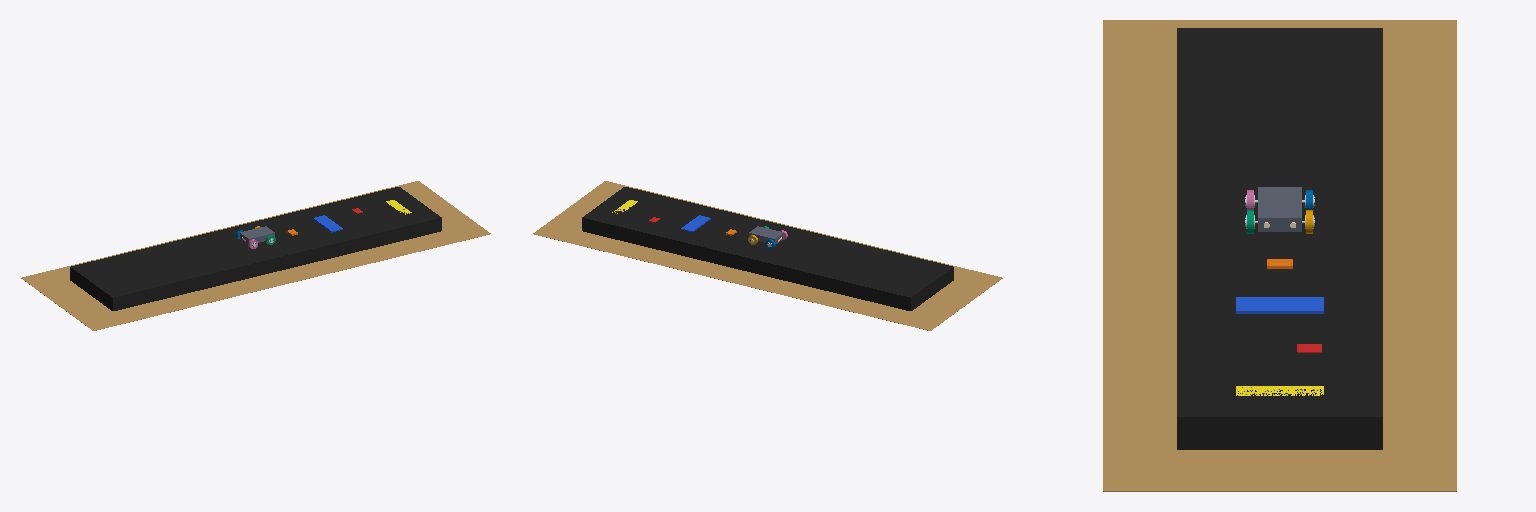
URDF robot description (vehicle_4wd):
<?xml version="1.0"?>
<robot name="vehicle_4wd">

  <!-- Materials -->
  <material name="body_dark">
    <color rgba="0.20 0.23 0.28 1.0" />
  </material>

  <material name="body_light">
    <color rgba="0.40 0.43 0.48 0.9" />
  </material>

  <material name="tire">
    <color rgba="0.06 0.06 0.06 1.0" />
  </material>

  <material name="tire_tread_texture">
    <texture filename="textures/tire_tread.png" />
  </material>

  <material name="tread_mark">
    <color rgba="0.32 0.33 0.36 1.0" />
  </material>

  <material name="ground_surface">
    <color rgba="0.18 0.18 0.18 0.7" />
  </material>

  <material name="obstacle_rock">
    <color rgba="0.86 0.20 0.20 0.7" />
  </material>

  <material name="obstacle_rock_blue">
    <color rgba="0.20 0.42 0.90 0.7" />
  </material>

  <material name="obstacle_rock_orange">
    <color rgba="0.95 0.52 0.12 0.8" />
  </material>

  <material name="green">
    <color rgba="0.00 1.00 0.00 1.0" />
  </material>

  <material name="ellipsoid_surface">
    <color rgba="0.76 0.62 0.40 0.55" />
  </material>

  <material name="rim">
    <color rgba="0.80 0.82 0.85 1.0" />
  </material>

  <material name="head_light">
    <color rgba="1.00 0.98 0.85 1.0" />
  </material>

  <material name="brake_light">
    <color rgba="0.95 0.08 0.08 1.0" />
  </material>

  <material name="plate_white">
    <color rgba="0.95 0.95 0.95 1.0" />
  </material>

  <material name="text_black">
    <color rgba="0.10 0.10 0.10 1.0" />
  </material>

  <material name="hole_yellow">
    <color rgba="1.00 0.92 0.16 0.9" />
  </material>

  <!-- Root link kept for compatibility -->
  <link name="origin">
    <visual>
      <origin xyz="0 0 0" rpy="0 0 0" />
      <geometry>
        <sphere radius="0.04" />
      </geometry>
      <material name="green" />
    </visual>
  </link>

  <!-- Main body (car_frame style) -->
  <link name="car_frame">
    <visual>
      <origin xyz="0.0566667 0 0.12" rpy="0 0 0" />
      <geometry>
        <box size="1.00 0.60 0.22" />
      </geometry>
      <material name="body_light" />
    </visual>

    <!-- Wheel axles -->
    <visual>
      <origin xyz="0.33 0.35 0.06" rpy="1.5707963 0 0" />
      <geometry>
        <cylinder radius="0.020" length="0.10" />
      </geometry>
      <material name="rim" />
    </visual>

    <visual>
      <origin xyz="0.33 -0.35 0.06" rpy="1.5707963 0 0" />
      <geometry>
        <cylinder radius="0.020" length="0.10" />
      </geometry>
      <material name="rim" />
    </visual>

    <visual>
      <origin xyz="-0.33 0.35 0.06" rpy="1.5707963 0 0" />
      <geometry>
        <cylinder radius="0.020" length="0.10" />
      </geometry>
      <material name="rim" />
    </visual>

    <visual>
      <origin xyz="-0.33 -0.35 0.06" rpy="1.5707963 0 0" />
      <geometry>
        <cylinder radius="0.020" length="0.10" />
      </geometry>
      <material name="rim" />
    </visual>

    <!-- Front head lights -->
    <visual>
      <origin xyz="0.564 0.18 0.12" rpy="0 1.5707963 0" />
      <geometry>
        <cylinder radius="0.042" length="0.02" />
      </geometry>
      <material name="head_light" />
    </visual>

    <visual>
      <origin xyz="0.564 -0.18 0.12" rpy="0 1.5707963 0" />
      <geometry>
        <cylinder radius="0.042" length="0.02" />
      </geometry>
      <material name="head_light" />
    </visual>

    <!-- Rear brake lights -->
    <visual>
      <origin xyz="-0.44 0.18 0.10" rpy="0 0 0" />
      <geometry>
        <box size="0.010 0.09 0.035" />
      </geometry>
      <material name="brake_light" />
    </visual>

    <visual>
      <origin xyz="-0.44 -0.18 0.10" rpy="0 0 0" />
      <geometry>
        <box size="0.010 0.09 0.035" />
      </geometry>
      <material name="brake_light" />
    </visual>

    <!-- Rear license plate -->
    <visual>
      <origin xyz="-0.452 0 0.10" rpy="0 0 0" />
      <geometry>
        <box size="0.010 0.24 0.06" />
      </geometry>
      <material name="plate_white" />
    </visual>


    <collision>
      <origin xyz="0.06 0 0.12" rpy="0 0 0" />
      <geometry>
        <box size="1.02 0.62 0.24" />
      </geometry>
    </collision>

    <inertial>
      <origin xyz="0.06 0 0.12" rpy="0 0 0" />
      <mass value="40.0" />
      <inertia ixx="2.6" ixy="0" ixz="0" iyy="4.8" iyz="0" izz="6.0" />
    </inertial>
  </link>

  <joint name="origin_to_ground" type="fixed">
    <parent link="origin" />
    <child link="ground" />
    <origin xyz="0 0 0" rpy="0 0 0" />
  </joint>

  <!-- Ground patch under the vehicle (2x vehicle body length) -->
  <link name="ground">
    <visual>
      <origin xyz="0 0 -0.25" rpy="0 0 0" />
      <geometry>
        <box size="12.48 2.80 0.50" />
      </geometry>
      <material name="ground_surface" />
    </visual>
    <collision>
      <origin xyz="0 0 -0.25" rpy="0 0 0" />
      <geometry>
        <box size="12.48 2.80 0.50" />
      </geometry>
    </collision>
  </link>

  <link name="ellipsoid_surface">
    <visual>
      <origin xyz="0 0 -0.002" rpy="0 0 0" />
      <geometry>
        <box size="15.1008 4.7916 0.005" />
      </geometry>
      <material name="ellipsoid_surface" />
    </visual>
  </link>

  <joint name="ground_to_car_frame" type="fixed">
    <parent link="ground" />
    <child link="car_frame" />
    <origin xyz="0 0 0.10" rpy="0 0 0" />
  </joint>

  <!-- Simulation obstacle (fixed curb / step) -->
  <link name="obstacle_rock_03">
    <visual>
      <origin xyz="0 0 0.0125" rpy="0 0 0" />
      <geometry>
        <box size="0.24 0.34 0.025" />
      </geometry>
      <material name="obstacle_rock" />
    </visual>
    <collision>
      <origin xyz="0 0 0.0125" rpy="0 0 0" />
      <geometry>
        <box size="0.44 0.34 0.025" />
      </geometry>
    </collision>
  </link>

  <joint name="obstacle_rock_03_joint" type="fixed">
    <parent link="ground" />
    <child link="obstacle_rock_03" />
    <origin xyz="4.0767 0.40 0.00" rpy="0 0 0" />
  </joint>

  <link name="obstacle_rock_01">
    <visual>
      <origin xyz="0 0 0.025" rpy="0 0 0" />
      <geometry>
        <box size="0.24 0.34 0.05" />
      </geometry>
      <material name="obstacle_rock_orange" />
    </visual>
    <collision>
      <origin xyz="0 0 0.025" rpy="0 0 0" />
      <geometry>
        <box size="0.44 0.34 0.05" />
      </geometry>
    </collision>
  </link>

  <joint name="obstacle_rock_01_joint" type="fixed">
    <parent link="ground" />
    <child link="obstacle_rock_01" />
    <origin xyz="1.39 0.00 0.00" rpy="0 0 0" />
  </joint>

  <link name="obstacle_rock_02">
    <visual>
      <origin xyz="0 0 0.025" rpy="0 0 0" />
      <geometry>
        <box size="0.44 1.20 0.05" />
      </geometry>
      <material name="obstacle_rock_blue" />
    </visual>
    <collision>
      <origin xyz="0 0 0.025" rpy="0 0 0" />
      <geometry>
        <box size="0.44 0.60 0.05" />
      </geometry>
    </collision>
  </link>

  <joint name="obstacle_rock_02_joint" type="fixed">
    <parent link="ground" />
    <child link="obstacle_rock_02" />
    <origin xyz="2.7333 0.0 0.00" rpy="0 0 0" />
  </joint>

  <!-- Visual hole placed in front of the 3rd obstacle with same x spacing -->
  <link name="hole_01">
    <visual>
      <origin xyz="0 0 -0.025" rpy="0 0 0" />
      <geometry>
        <box size="0.32 1.20 0.05" />
      </geometry>
      <material name="hole_yellow" />
    </visual>
  </link>

  <joint name="hole_01_joint" type="fixed">
    <parent link="ground" />
    <child link="hole_01" />
    <origin xyz="5.42 0.00 0.00" rpy="0 0 0" />
  </joint>

  <joint name="origin_to_ellipsoid_surface" type="fixed">
    <parent link="origin" />
    <child link="ellipsoid_surface" />
    <origin xyz="0 0 -0.5005" rpy="0 0 0" />
  </joint>

  <!-- Front-left wheel -->
  <link name="wheel_fl">
    <visual>
      <origin xyz="0 0 0" rpy="1.5707963 0 0" />
      <geometry>
        <cylinder radius="0.16" length="0.10" />
      </geometry>
      <material name="tire_tread_texture" />
    </visual>

    <visual>
      <origin xyz="0 0 0" rpy="1.5707963 0 0" />
      <geometry>
        <cylinder radius="0.09" length="0.11" />
      </geometry>
      <material name="rim" />
    </visual>

    <collision>
      <origin xyz="0 0 0" rpy="1.5707963 0 0" />
      <geometry>
        <cylinder radius="0.16" length="0.10" />
      </geometry>
    </collision>

    <inertial>
      <origin xyz="0 0 0" rpy="0 0 0" />
      <mass value="1.8" />
      <inertia ixx="0.020" ixy="0" ixz="0" iyy="0.012" iyz="0" izz="0.020" />
    </inertial>
  </link>

  <!-- Front-left hub gear (visible from outer side) -->
  <link name="gear_fl">
    <visual>
      <origin xyz="0 0.065 0" rpy="1.5707963 0 0" />
      <geometry>
        <cylinder radius="0.055" length="0.022" />
      </geometry>
      <material name="rim" />
    </visual>

    <visual>
      <origin xyz="0.06100 0.065 0.00000" rpy="0 0 0" />
      <geometry>
        <box size="0.012 0.022 0.010" />
      </geometry>
      <material name="tread_mark" />
    </visual>

    <visual>
      <origin xyz="0.03050 0.065 0.05283" rpy="0 1.0471976 0" />
      <geometry>
        <box size="0.012 0.022 0.010" />
      </geometry>
      <material name="tread_mark" />
    </visual>

    <visual>
      <origin xyz="-0.03050 0.065 0.05283" rpy="0 2.0943951 0" />
      <geometry>
        <box size="0.012 0.022 0.010" />
      </geometry>
      <material name="tread_mark" />
    </visual>

    <visual>
      <origin xyz="-0.06100 0.065 0.00000" rpy="0 3.1415927 0" />
      <geometry>
        <box size="0.012 0.022 0.010" />
      </geometry>
      <material name="tread_mark" />
    </visual>

    <visual>
      <origin xyz="-0.03050 0.065 -0.05283" rpy="0 -2.0943951 0" />
      <geometry>
        <box size="0.012 0.022 0.010" />
      </geometry>
      <material name="tread_mark" />
    </visual>

    <visual>
      <origin xyz="0.03050 0.065 -0.05283" rpy="0 -1.0471976 0" />
      <geometry>
        <box size="0.012 0.022 0.010" />
      </geometry>
      <material name="tread_mark" />
    </visual>

    <inertial>
      <origin xyz="0 0 0" rpy="0 0 0" />
      <mass value="0.08" />
      <inertia ixx="0.00008" ixy="0" ixz="0" iyy="0.00005" iyz="0" izz="0.00008" />
    </inertial>
  </link>

  <joint name="joint_gear_fl" type="continuous">
    <parent link="car_frame" />
    <child link="gear_fl" />
    <origin xyz="0.33 0.40 0.06" rpy="0 0 0" />
    <axis xyz="0 1 0" />
    <dynamics damping="0.03" friction="0.01" />
  </joint>

  <joint name="joint_fl" type="continuous">
    <parent link="car_frame" />
    <child link="wheel_fl" />
    <origin xyz="0.33 0.40 0.06" rpy="0 0 0" />
    <axis xyz="0 1 0" />
    <mimic joint="joint_gear_fl" multiplier="1.0" offset="0.0" />
    <dynamics damping="0.05" friction="0.02" />
  </joint>

  <!-- Front-right wheel -->
  <link name="wheel_fr">
    <visual>
      <origin xyz="0 0 0" rpy="1.5707963 0 0" />
      <geometry>
        <cylinder radius="0.16" length="0.10" />
      </geometry>
      <material name="tire_tread_texture" />
    </visual>

    <visual>
      <origin xyz="0 0 0" rpy="1.5707963 0 0" />
      <geometry>
        <cylinder radius="0.09" length="0.11" />
      </geometry>
      <material name="rim" />
    </visual>

    <collision>
      <origin xyz="0 0 0" rpy="1.5707963 0 0" />
      <geometry>
        <cylinder radius="0.16" length="0.10" />
      </geometry>
    </collision>

    <inertial>
      <origin xyz="0 0 0" rpy="0 0 0" />
      <mass value="1.8" />
      <inertia ixx="0.020" ixy="0" ixz="0" iyy="0.012" iyz="0" izz="0.020" />
    </inertial>
  </link>

  <!-- Front-right hub gear (visible from outer side) -->
  <link name="gear_fr">
    <visual>
      <origin xyz="0 -0.065 0" rpy="1.5707963 0 0" />
      <geometry>
        <cylinder radius="0.055" length="0.022" />
      </geometry>
      <material name="rim" />
    </visual>

    <visual>
      <origin xyz="0.06100 -0.065 0.00000" rpy="0 0 0" />
      <geometry>
        <box size="0.012 0.022 0.010" />
      </geometry>
      <material name="tread_mark" />
    </visual>

    <visual>
      <origin xyz="0.03050 -0.065 0.05283" rpy="0 1.0471976 0" />
      <geometry>
        <box size="0.012 0.022 0.010" />
      </geometry>
      <material name="tread_mark" />
    </visual>

    <visual>
      <origin xyz="-0.03050 -0.065 0.05283" rpy="0 2.0943951 0" />
      <geometry>
        <box size="0.012 0.022 0.010" />
      </geometry>
      <material name="tread_mark" />
    </visual>

    <visual>
      <origin xyz="-0.06100 -0.065 0.00000" rpy="0 3.1415927 0" />
      <geometry>
        <box size="0.012 0.022 0.010" />
      </geometry>
      <material name="tread_mark" />
    </visual>

    <visual>
      <origin xyz="-0.03050 -0.065 -0.05283" rpy="0 -2.0943951 0" />
      <geometry>
        <box size="0.012 0.022 0.010" />
      </geometry>
      <material name="tread_mark" />
    </visual>

    <visual>
      <origin xyz="0.03050 -0.065 -0.05283" rpy="0 -1.0471976 0" />
      <geometry>
        <box size="0.012 0.022 0.010" />
      </geometry>
      <material name="tread_mark" />
    </visual>

    <inertial>
      <origin xyz="0 0 0" rpy="0 0 0" />
      <mass value="0.08" />
      <inertia ixx="0.00008" ixy="0" ixz="0" iyy="0.00005" iyz="0" izz="0.00008" />
    </inertial>
  </link>

  <joint name="joint_gear_fr" type="continuous">
    <parent link="car_frame" />
    <child link="gear_fr" />
    <origin xyz="0.33 -0.40 0.06" rpy="0 0 0" />
    <axis xyz="0 1 0" />
    <dynamics damping="0.03" friction="0.01" />
  </joint>

  <joint name="joint_fr" type="continuous">
    <parent link="car_frame" />
    <child link="wheel_fr" />
    <origin xyz="0.33 -0.40 0.06" rpy="0 0 0" />
    <axis xyz="0 1 0" />
    <mimic joint="joint_gear_fr" multiplier="1.0" offset="0.0" />
    <dynamics damping="0.05" friction="0.02" />
  </joint>

  <!-- Rear-left wheel -->
  <link name="wheel_rl">
    <visual>
      <origin xyz="0 0 0" rpy="1.5707963 0 0" />
      <geometry>
        <cylinder radius="0.16" length="0.10" />
      </geometry>
      <material name="tire_tread_texture" />
    </visual>

    <visual>
      <origin xyz="0 0 0" rpy="1.5707963 0 0" />
      <geometry>
        <cylinder radius="0.09" length="0.11" />
      </geometry>
      <material name="rim" />
    </visual>

    <collision>
      <origin xyz="0 0 0" rpy="1.5707963 0 0" />
      <geometry>
        <cylinder radius="0.16" length="0.10" />
      </geometry>
    </collision>

    <inertial>
      <origin xyz="0 0 0" rpy="0 0 0" />
      <mass value="1.8" />
      <inertia ixx="0.020" ixy="0" ixz="0" iyy="0.012" iyz="0" izz="0.020" />
    </inertial>
  </link>

  <!-- Rear-left hub gear (visible from outer side) -->
  <link name="gear_rl">
    <visual>
      <origin xyz="0 0.065 0" rpy="1.5707963 0 0" />
      <geometry>
        <cylinder radius="0.055" length="0.022" />
      </geometry>
      <material name="rim" />
    </visual>

    <visual>
      <origin xyz="0.06100 0.065 0.00000" rpy="0 0 0" />
      <geometry>
        <box size="0.012 0.022 0.010" />
      </geometry>
      <material name="tread_mark" />
    </visual>

    <visual>
      <origin xyz="0.03050 0.065 0.05283" rpy="0 1.0471976 0" />
      <geometry>
        <box size="0.012 0.022 0.010" />
      </geometry>
      <material name="tread_mark" />
    </visual>

    <visual>
      <origin xyz="-0.03050 0.065 0.05283" rpy="0 2.0943951 0" />
      <geometry>
        <box size="0.012 0.022 0.010" />
      </geometry>
      <material name="tread_mark" />
    </visual>

    <visual>
      <origin xyz="-0.06100 0.065 0.00000" rpy="0 3.1415927 0" />
      <geometry>
        <box size="0.012 0.022 0.010" />
      </geometry>
      <material name="tread_mark" />
    </visual>

    <visual>
      <origin xyz="-0.03050 0.065 -0.05283" rpy="0 -2.0943951 0" />
      <geometry>
        <box size="0.012 0.022 0.010" />
      </geometry>
      <material name="tread_mark" />
    </visual>

    <visual>
      <origin xyz="0.03050 0.065 -0.05283" rpy="0 -1.0471976 0" />
      <geometry>
        <box size="0.012 0.022 0.010" />
      </geometry>
      <material name="tread_mark" />
    </visual>

    <inertial>
      <origin xyz="0 0 0" rpy="0 0 0" />
      <mass value="0.08" />
      <inertia ixx="0.00008" ixy="0" ixz="0" iyy="0.00005" iyz="0" izz="0.00008" />
    </inertial>
  </link>

  <joint name="joint_gear_rl" type="continuous">
    <parent link="car_frame" />
    <child link="gear_rl" />
    <origin xyz="-0.33 0.40 0.06" rpy="0 0 0" />
    <axis xyz="0 1 0" />
    <dynamics damping="0.03" friction="0.01" />
  </joint>

  <joint name="joint_rl" type="continuous">
    <parent link="car_frame" />
    <child link="wheel_rl" />
    <origin xyz="-0.33 0.40 0.06" rpy="0 0 0" />
    <axis xyz="0 1 0" />
    <mimic joint="joint_gear_rl" multiplier="1.0" offset="0.0" />
    <dynamics damping="0.05" friction="0.02" />
  </joint>

  <!-- Rear-right wheel -->
  <link name="wheel_rr">
    <visual>
      <origin xyz="0 0 0" rpy="1.5707963 0 0" />
      <geometry>
        <cylinder radius="0.16" length="0.10" />
      </geometry>
      <material name="tire_tread_texture" />
    </visual>

    <visual>
      <origin xyz="0 0 0" rpy="1.5707963 0 0" />
      <geometry>
        <cylinder radius="0.09" length="0.11" />
      </geometry>
      <material name="rim" />
    </visual>

    <collision>
      <origin xyz="0 0 0" rpy="1.5707963 0 0" />
      <geometry>
        <cylinder radius="0.16" length="0.10" />
      </geometry>
    </collision>

    <inertial>
      <origin xyz="0 0 0" rpy="0 0 0" />
      <mass value="1.8" />
      <inertia ixx="0.020" ixy="0" ixz="0" iyy="0.012" iyz="0" izz="0.020" />
    </inertial>
  </link>

  <!-- Rear-right hub gear (visible from outer side) -->
  <link name="gear_rr">
    <visual>
      <origin xyz="0 -0.065 0" rpy="1.5707963 0 0" />
      <geometry>
        <cylinder radius="0.055" length="0.022" />
      </geometry>
      <material name="rim" />
    </visual>

    <visual>
      <origin xyz="0.06100 -0.065 0.00000" rpy="0 0 0" />
      <geometry>
        <box size="0.012 0.022 0.010" />
      </geometry>
      <material name="tread_mark" />
    </visual>

    <visual>
      <origin xyz="0.03050 -0.065 0.05283" rpy="0 1.0471976 0" />
      <geometry>
        <box size="0.012 0.022 0.010" />
      </geometry>
      <material name="tread_mark" />
    </visual>

    <visual>
      <origin xyz="-0.03050 -0.065 0.05283" rpy="0 2.0943951 0" />
      <geometry>
        <box size="0.012 0.022 0.010" />
      </geometry>
      <material name="tread_mark" />
    </visual>

    <visual>
      <origin xyz="-0.06100 -0.065 0.00000" rpy="0 3.1415927 0" />
      <geometry>
        <box size="0.012 0.022 0.010" />
      </geometry>
      <material name="tread_mark" />
    </visual>

    <visual>
      <origin xyz="-0.03050 -0.065 -0.05283" rpy="0 -2.0943951 0" />
      <geometry>
        <box size="0.012 0.022 0.010" />
      </geometry>
      <material name="tread_mark" />
    </visual>

    <visual>
      <origin xyz="0.03050 -0.065 -0.05283" rpy="0 -1.0471976 0" />
      <geometry>
        <box size="0.012 0.022 0.010" />
      </geometry>
      <material name="tread_mark" />
    </visual>

    <inertial>
      <origin xyz="0 0 0" rpy="0 0 0" />
      <mass value="0.08" />
      <inertia ixx="0.00008" ixy="0" ixz="0" iyy="0.00005" iyz="0" izz="0.00008" />
    </inertial>
  </link>

  <joint name="joint_gear_rr" type="continuous">
    <parent link="car_frame" />
    <child link="gear_rr" />
    <origin xyz="-0.33 -0.40 0.06" rpy="0 0 0" />
    <axis xyz="0 1 0" />
    <dynamics damping="0.03" friction="0.01" />
  </joint>

  <joint name="joint_rr" type="continuous">
    <parent link="car_frame" />
    <child link="wheel_rr" />
    <origin xyz="-0.33 -0.40 0.06" rpy="0 0 0" />
    <axis xyz="0 1 0" />
    <mimic joint="joint_gear_rr" multiplier="1.0" offset="0.0" />
    <dynamics damping="0.05" friction="0.02" />
  </joint>

  <!-- Optional wheel-ground friction tuning for Gazebo -->
  <gazebo reference="wheel_fl">
    <mu1>1.0</mu1>
    <mu2>1.0</mu2>
  </gazebo>
  <gazebo reference="wheel_fr">
    <mu1>1.0</mu1>
    <mu2>1.0</mu2>
  </gazebo>
  <gazebo reference="wheel_rl">
    <mu1>1.0</mu1>
    <mu2>1.0</mu2>
  </gazebo>
  <gazebo reference="wheel_rr">
    <mu1>1.0</mu1>
    <mu2>1.0</mu2>
  </gazebo>

</robot>

--- Facts derived from the render (not from the file) ---
Views: 3 orthographic renders of the robot side by side, from view 1: azimuth 30°, elevation 25°; view 2: azimuth 150°, elevation 25°; view 3: azimuth 270°, elevation 25°.
Robot: vehicle_4wd — 16 links, 15 joints (8 continuous, 7 fixed); root link origin; default pose: all joints at 0.
Links seen in each view (by area): view 1: ground, ellipsoid_surface; view 2: ground, ellipsoid_surface; view 3: ground, ellipsoid_surface, car_frame, obstacle_rock_02, hole_01.
Link boxes in pixels (x1,y1,x2,y2): ground: [70, 187, 441, 310]; ellipsoid_surface: [21, 181, 490, 330]; ground: [582, 187, 953, 310]; ellipsoid_surface: [533, 181, 1002, 330]; ground: [1177, 28, 1382, 449]; ellipsoid_surface: [1103, 20, 1456, 491]; car_frame: [1255, 187, 1304, 231]; obstacle_rock_02: [1236, 297, 1323, 313]; hole_01: [1236, 386, 1323, 395].
Bounding box of the posed robot: 15.1 × 4.79 × 0.835 m (x, y, z).
Geometry: primitives only (box / cylinder / sphere), no mesh files.
